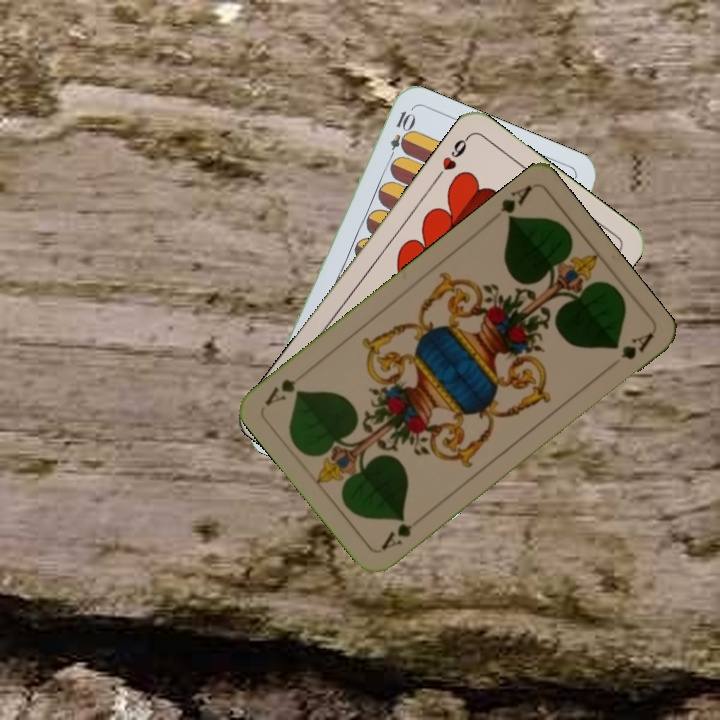E10: (384, 107, 416, 165)
GA: (377, 511, 426, 553), (495, 181, 535, 227)
H9: (431, 132, 472, 182)
